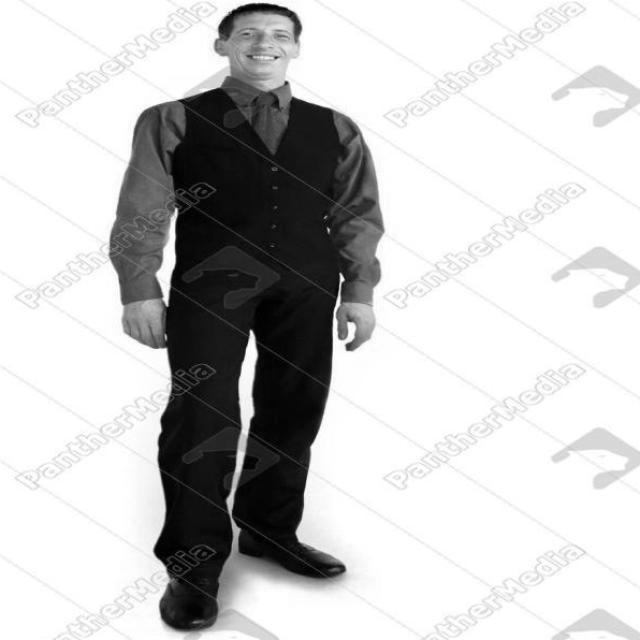person: (134, 6, 397, 614)
